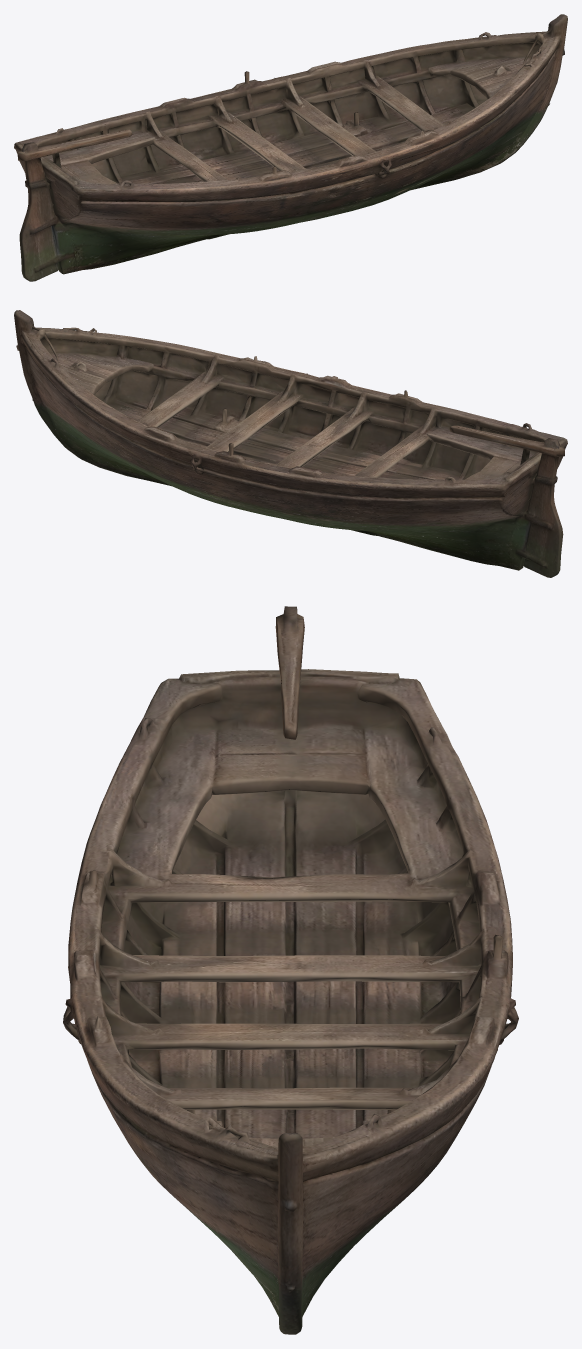
Rendered from chaloupe_pnj.glb.
3 views of the same model, one above another, from view 1: azimuth 30°, elevation 25°; view 2: azimuth 150°, elevation 25°; view 3: azimuth 270°, elevation 25° (orthographic). The views are drawn at different scales.
Parts seen in each view (by area): view 1: tripo_node_a5df6860-e8a8-4a15-8625-f844a7d1ccd2; view 2: tripo_node_a5df6860-e8a8-4a15-8625-f844a7d1ccd2; view 3: tripo_node_a5df6860-e8a8-4a15-8625-f844a7d1ccd2.
Boxes of the visible parts, x1,y1,x2,y2 form: tripo_node_a5df6860-e8a8-4a15-8625-f844a7d1ccd2: (14, 14, 567, 281); tripo_node_a5df6860-e8a8-4a15-8625-f844a7d1ccd2: (14, 310, 567, 577); tripo_node_a5df6860-e8a8-4a15-8625-f844a7d1ccd2: (63, 606, 518, 1334).
Bounding box in the file's own units: 1 × 0.2419 × 0.3595.
1 material, 1 textured.
